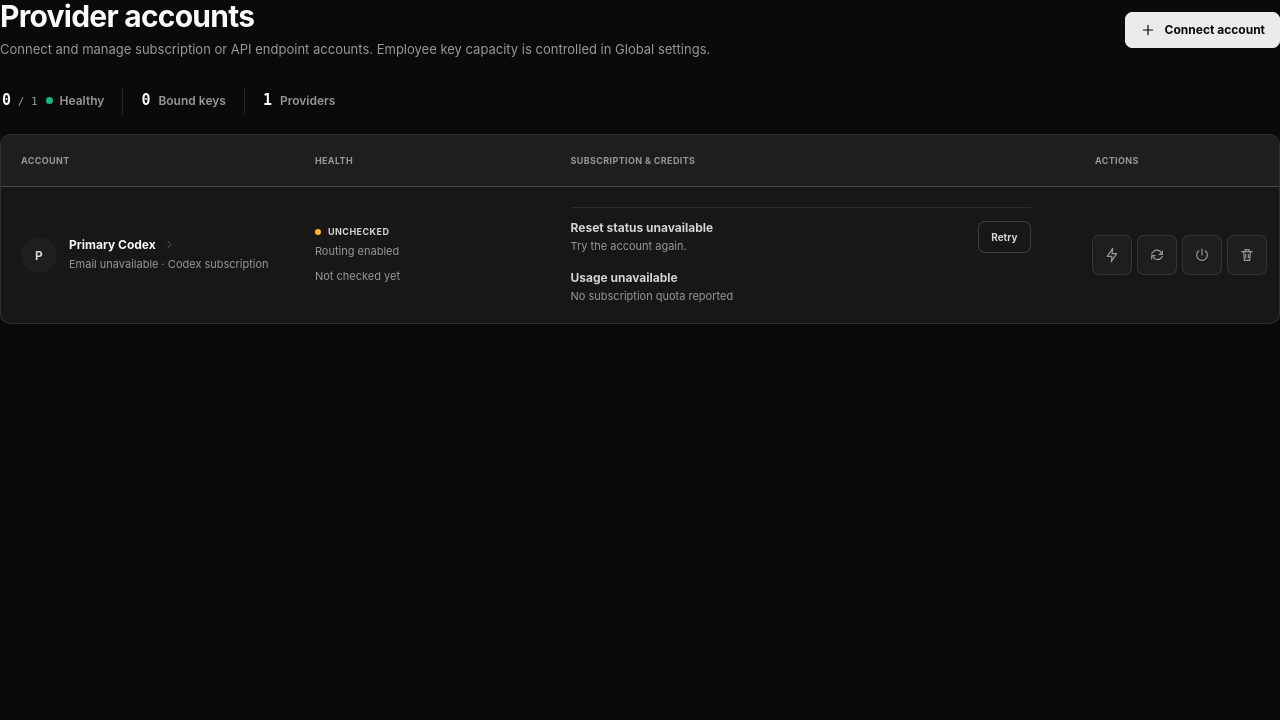
Scenario: Subpool console › removes an unassigned account after confirmation
Click the button named "Remove Primary Codex": (1247, 255) [1227,235,1267,275]
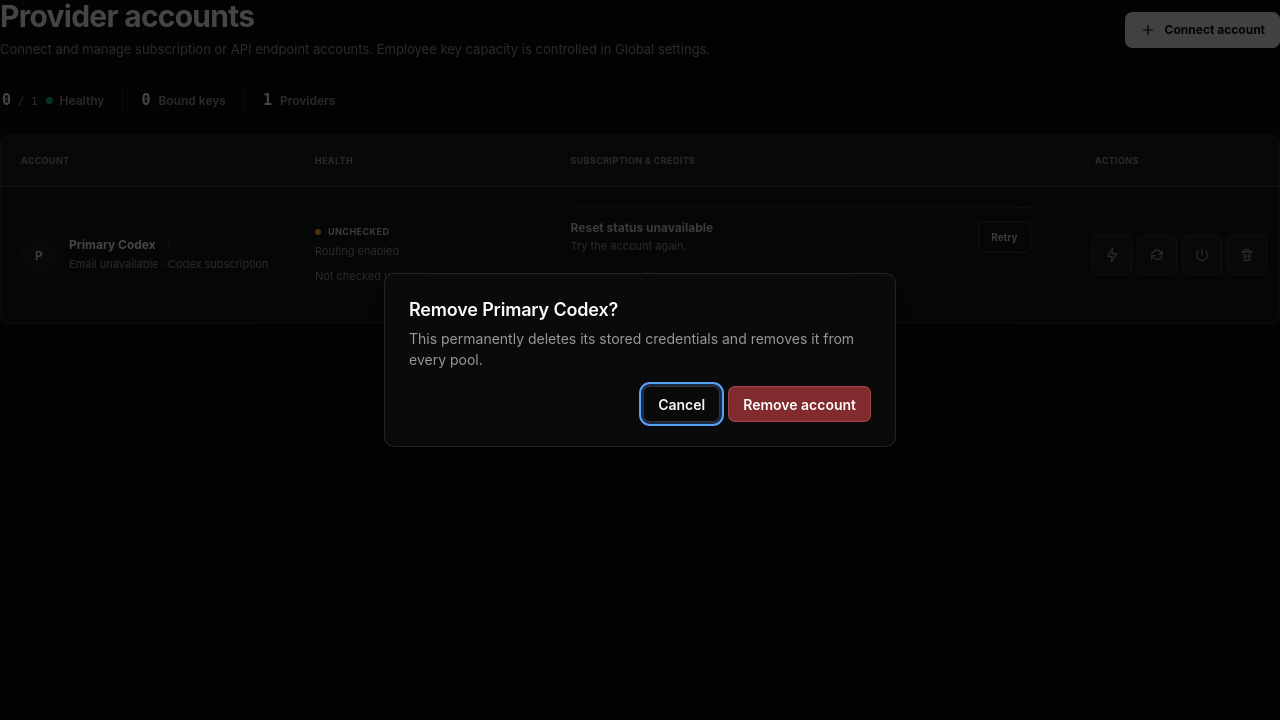
Click the button "Remove account": (800, 404) [728,386,871,422]
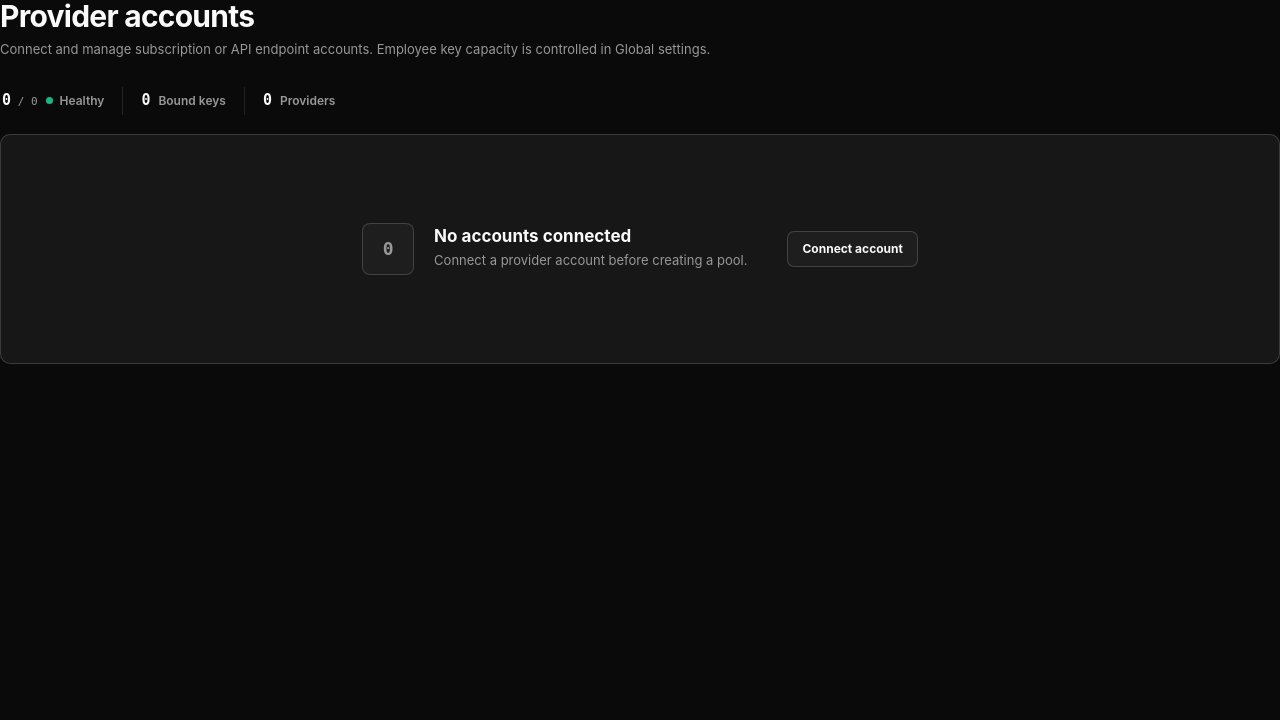
Result: the heading "No accounts connected" is shown at [434,226,631,246]
